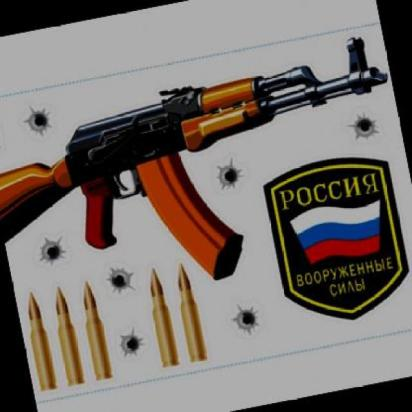Gun: (0, 27, 412, 300)
